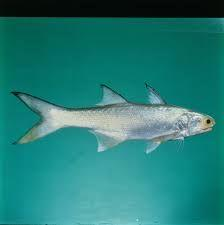Fourfinger Threadfish: (10, 82, 215, 155)
